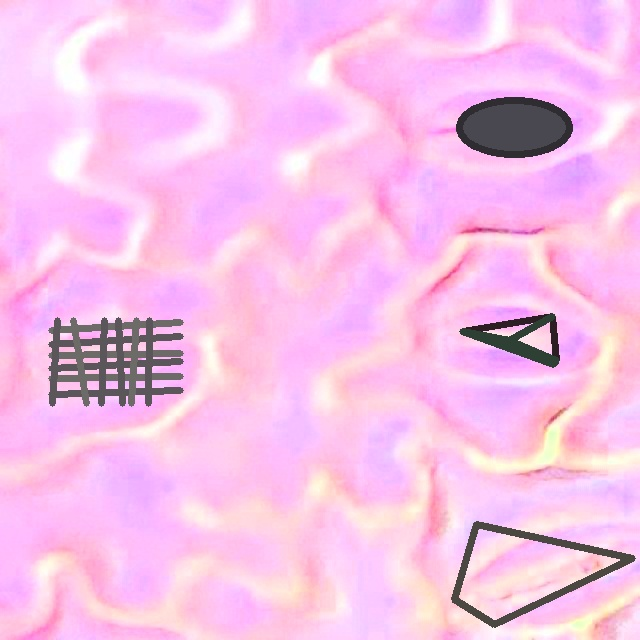open: (451, 521, 635, 627), (48, 317, 183, 406), (456, 97, 571, 157), (459, 313, 559, 367)
